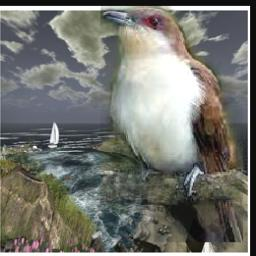Cuckoo: (101, 7, 244, 243)
